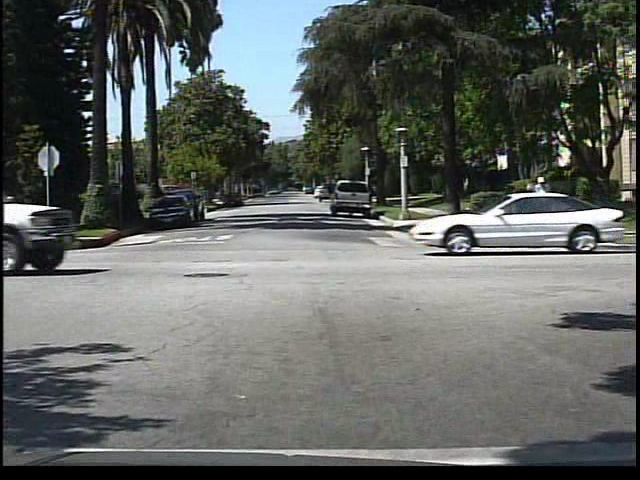person: (527, 172, 556, 231)
